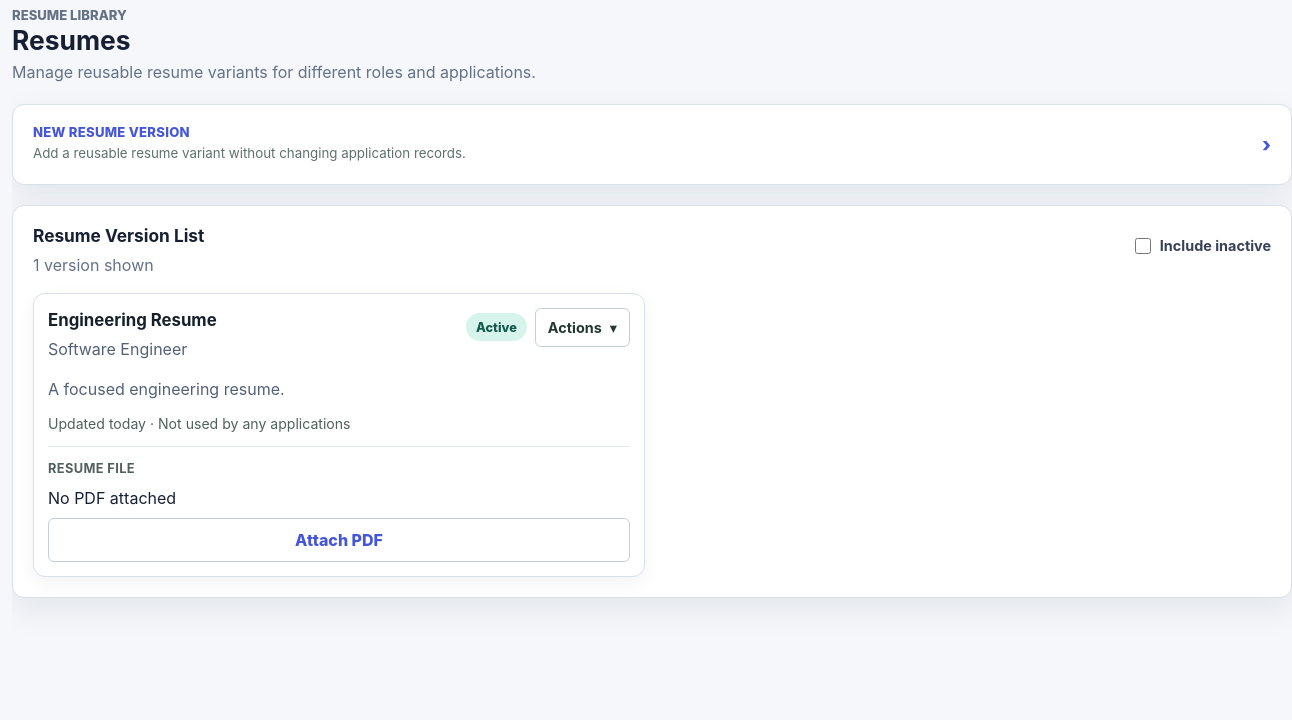
ResumeVersionsPage library experience › groups active-card actions in a labeled disclosure
Click the heading "Actions". click: click(582, 328)
box: x1=535 y1=308 x2=630 y2=347
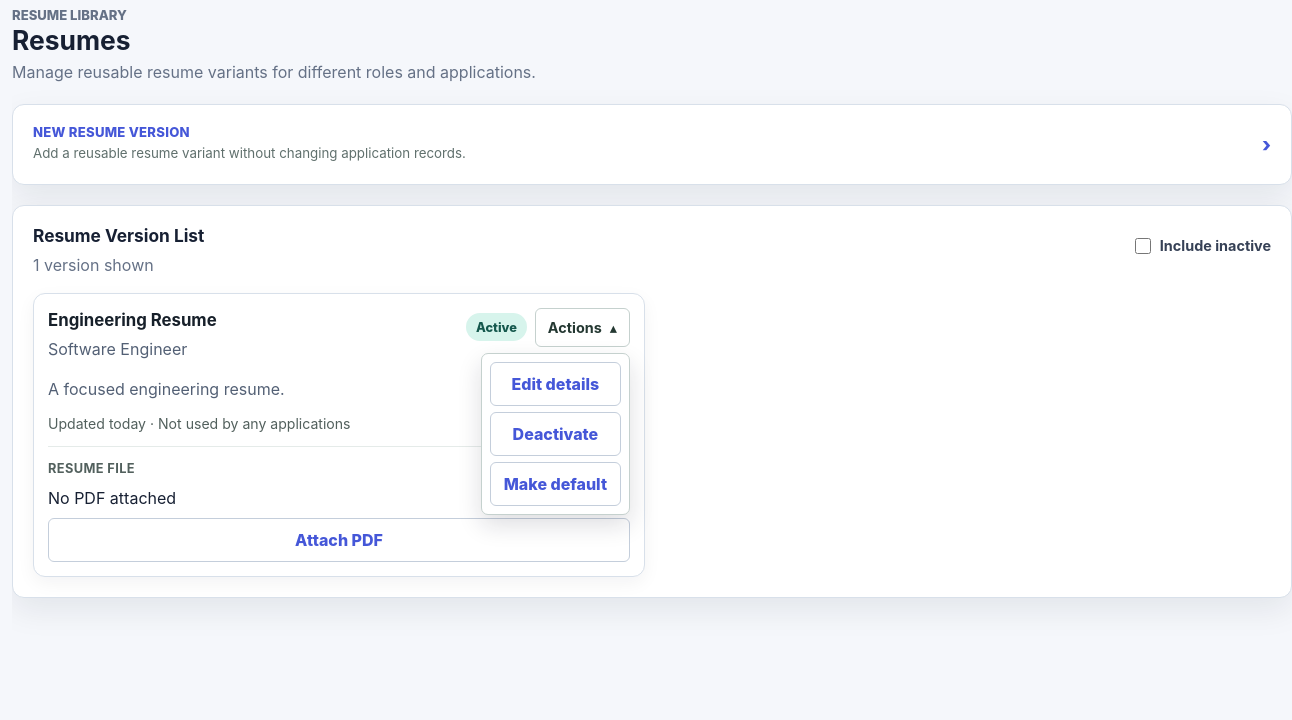
Click the button "Edit details". click: click(555, 384)
box: x1=490 y1=362 x2=621 y2=406
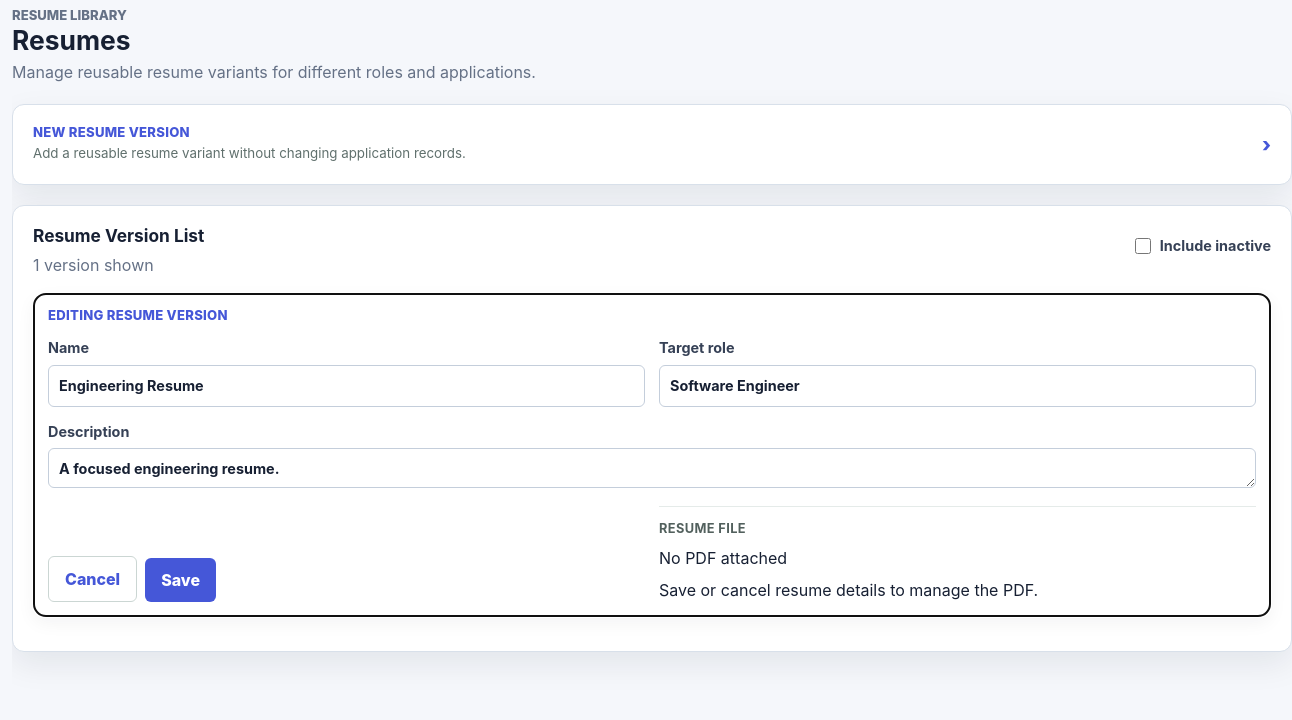
Expected: the element with class "resume-version-card-editing" is shown, x1=33 y1=293 x2=1271 y2=617
